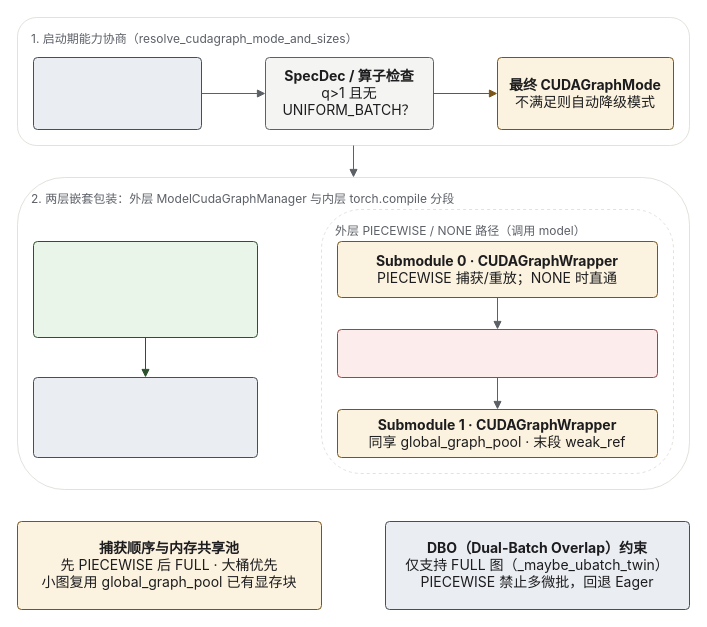
Some shapes in this 707 by 627 pixel diagram are drawn without their labels. The shapes that lost their labels are listed below. From the top down, each one's centre as x and y in pixels, then its label:
At (117,93): "Attention 后端能力聚合 全层取最小 CGSupport".
At (145,289): "外层 FULL 图路径 捕获设 runtime_mode=NONE 重放直接 run_fullgraph".
At (497,353): "splitting_ops（不入图边界） unified_attention / kv_cache_update Eager".
At (145,417): "NONE 透传不变量 内层 Wrapper 见 NONE 直通 避免图内嵌图死锁".
